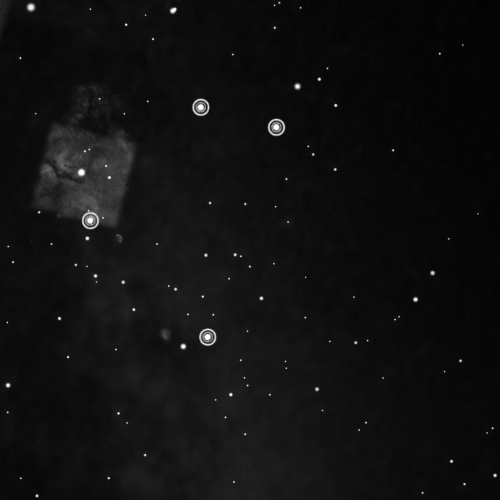coma_berenices: (76, 82, 298, 355)
